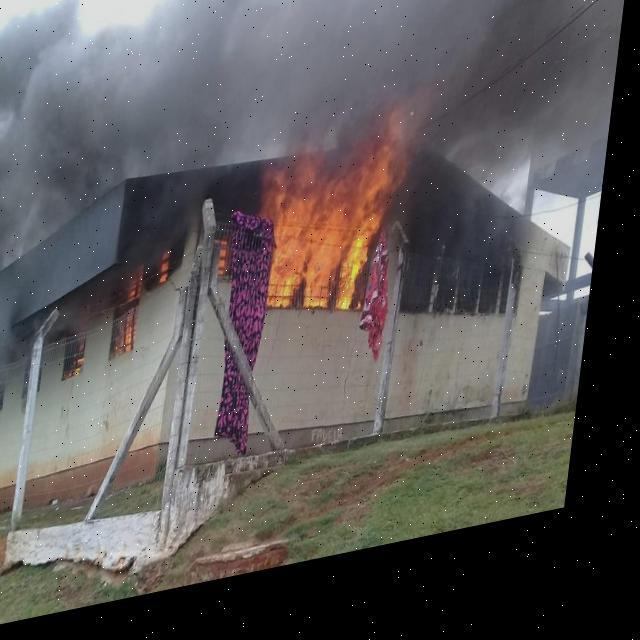Fire: (256, 115, 428, 353)
